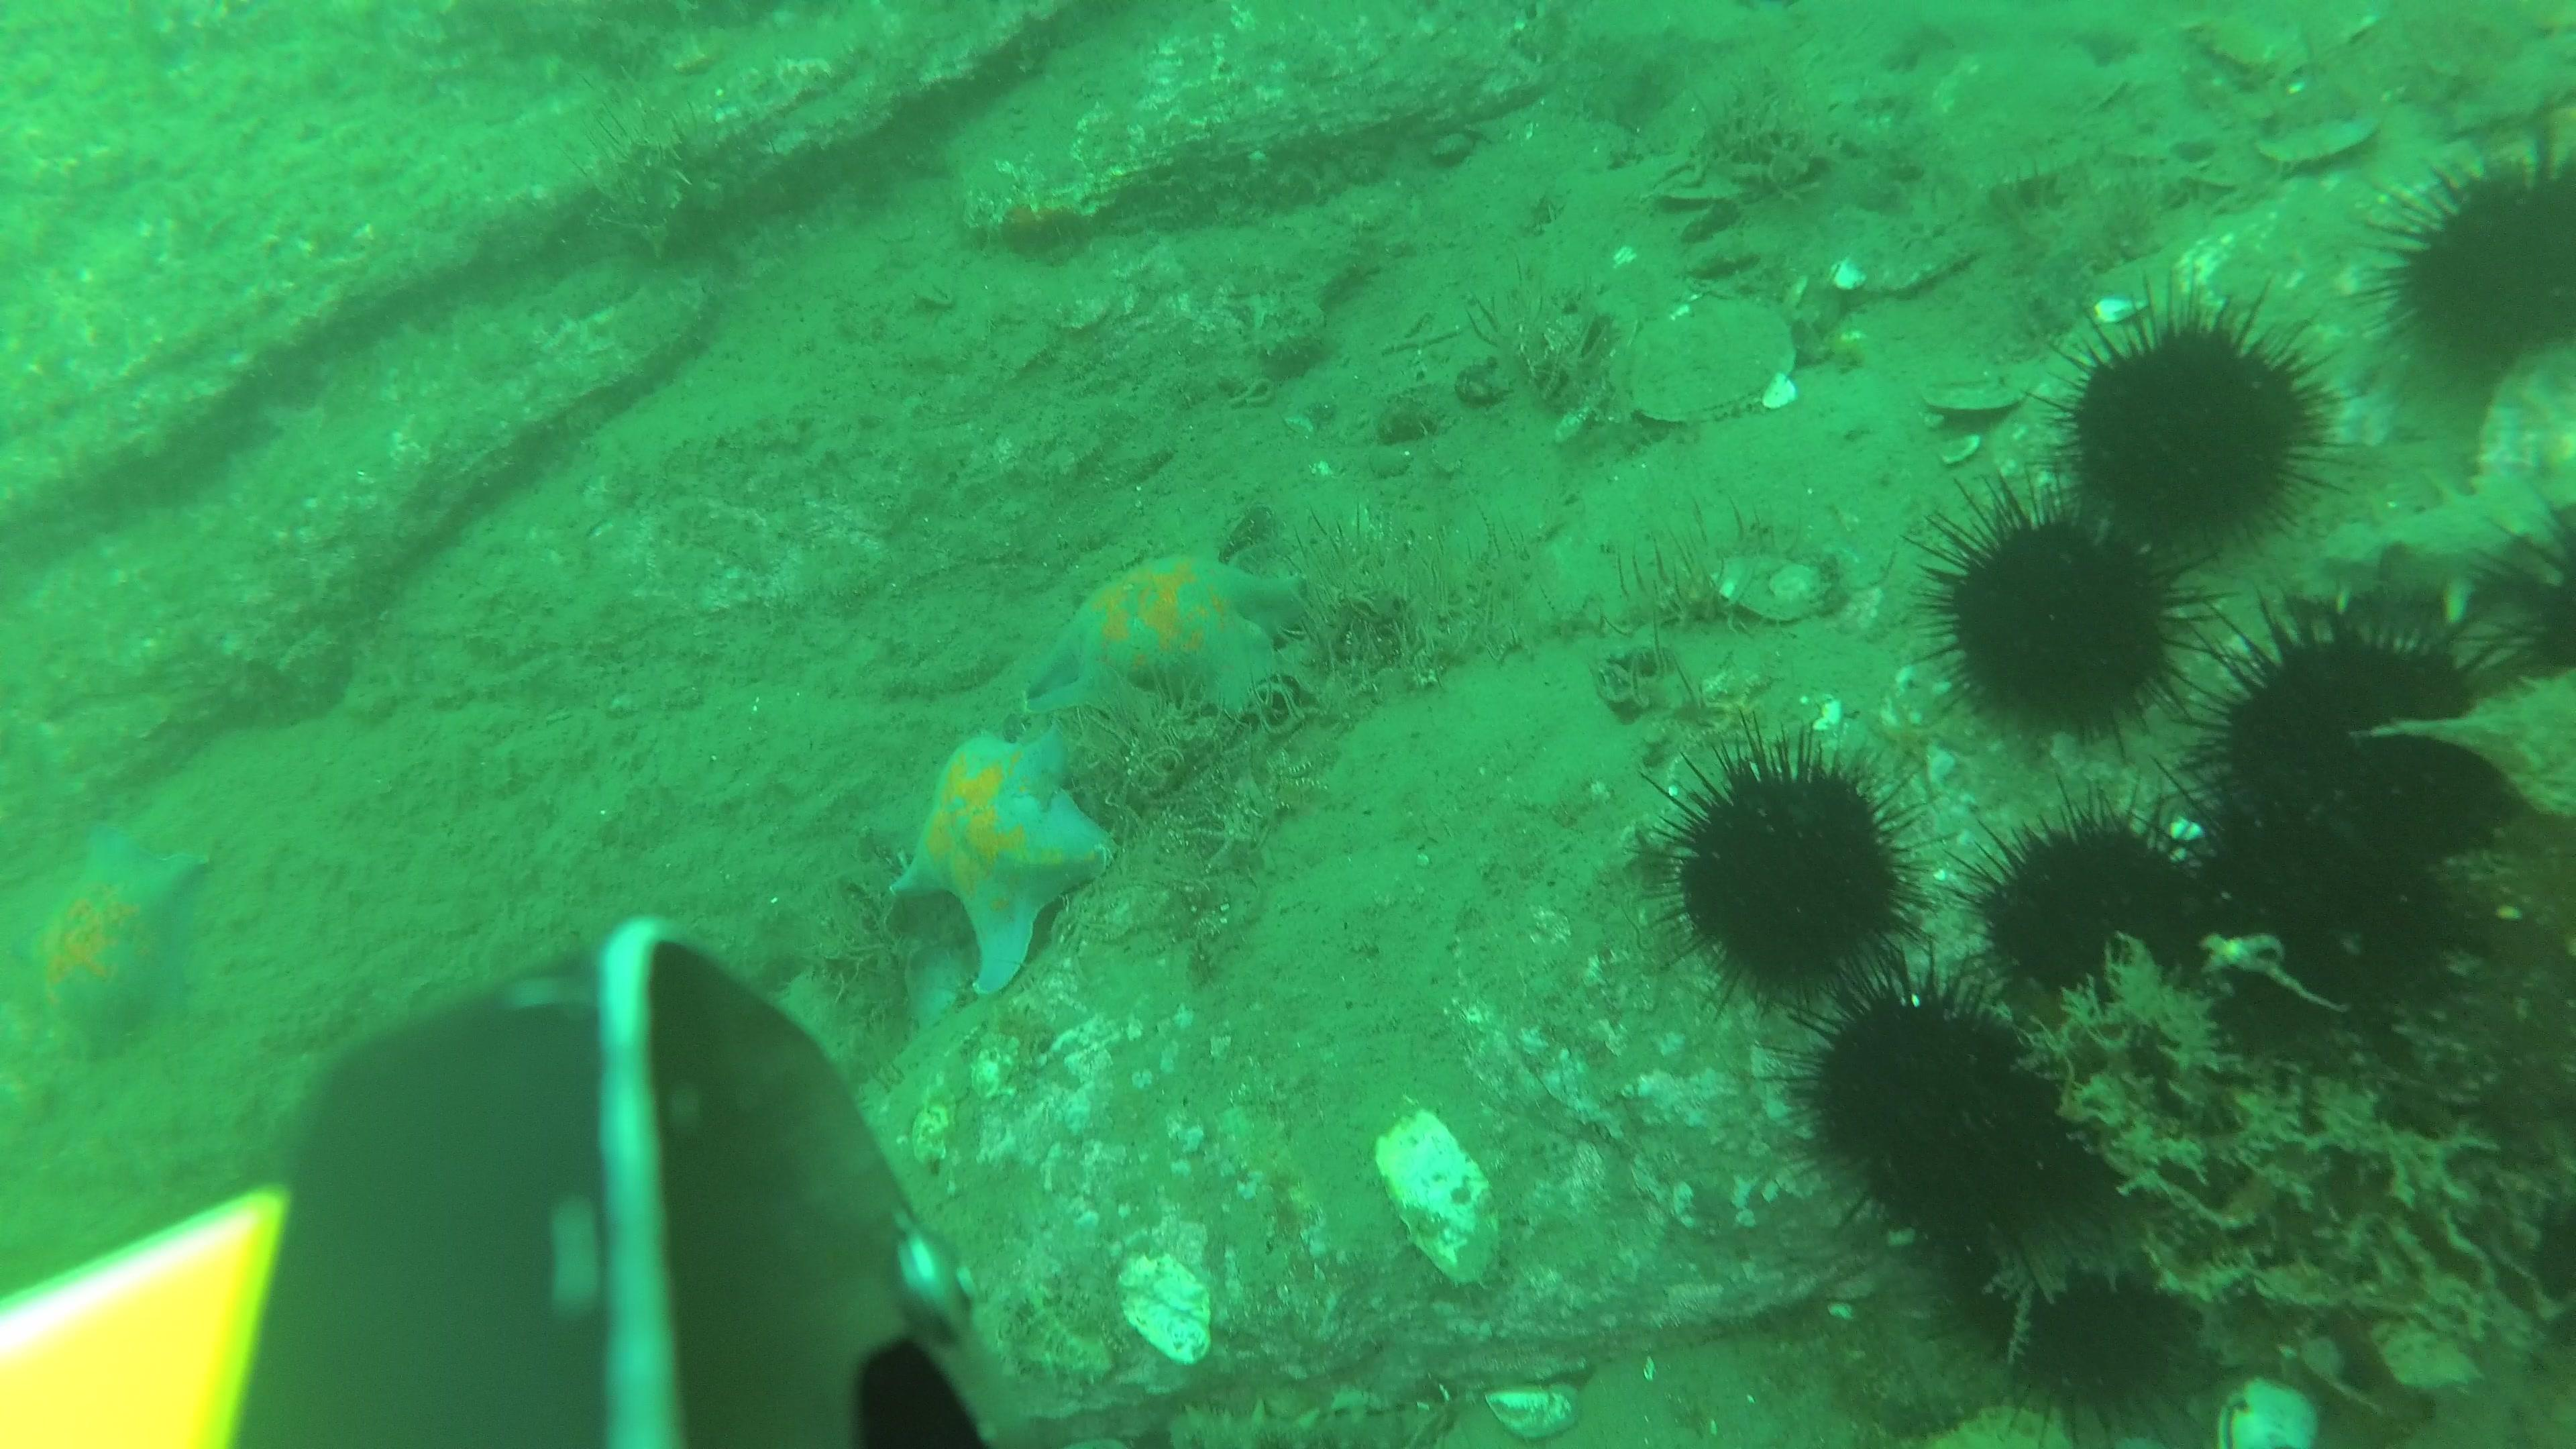echinus: (1909, 460, 2213, 777), (2038, 276, 2346, 582), (1651, 713, 1923, 1017), (2173, 771, 2449, 1065), (2219, 593, 2491, 879), (1778, 962, 2051, 1238), (1964, 771, 2206, 1062), (1955, 1194, 2212, 1449), (2374, 122, 2576, 396), (2473, 488, 2576, 741), (2498, 1189, 2576, 1373)
holothurian: (2286, 465, 2576, 625), (1171, 1396, 1444, 1449)
scallop: (1629, 299, 1794, 421), (1713, 548, 1833, 625)
starfish: (888, 722, 1115, 1000), (23, 810, 212, 1079), (1021, 547, 1299, 725)
